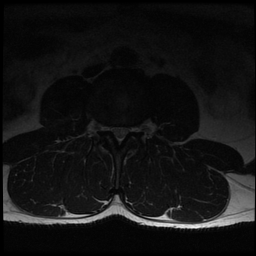CCS_normal: (117, 122, 122, 149)
LFS_stenosis: (128, 121, 135, 136)
LLS_stenosis: (123, 121, 128, 140)
RFS_stenosis: (104, 120, 111, 138)
RLS_stenosis: (111, 122, 117, 140)
